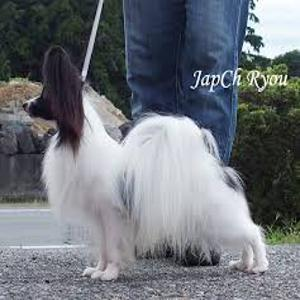yell: (20, 45, 269, 281)
